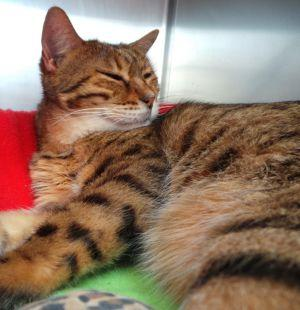bengal: (34, 1, 171, 132)
